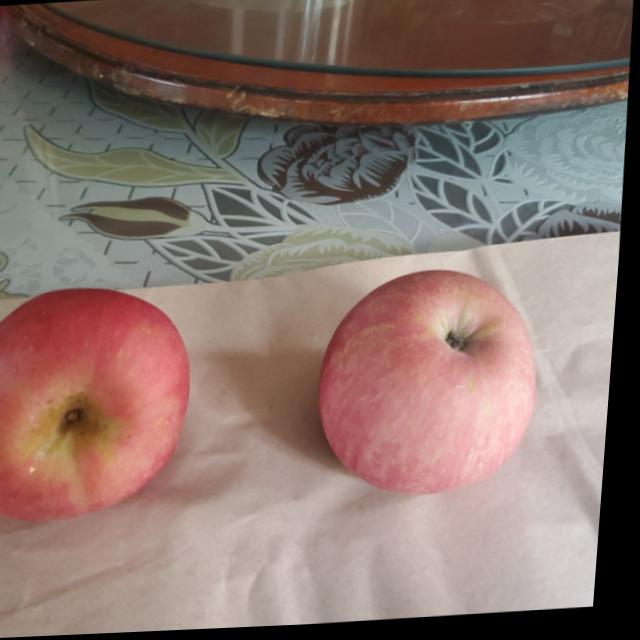apple: (318, 268, 551, 501), (0, 281, 204, 532)
